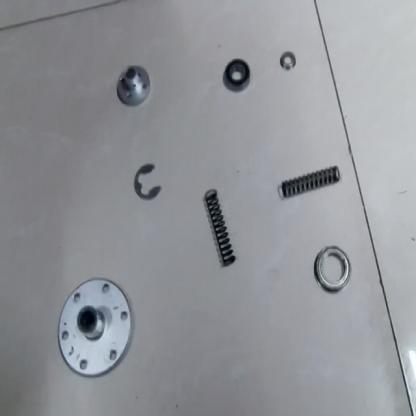FOD: (53, 276, 134, 381), (201, 182, 237, 274), (278, 166, 343, 204), (312, 242, 354, 294), (113, 63, 155, 109), (132, 162, 167, 206), (221, 56, 252, 97), (278, 49, 298, 70)
